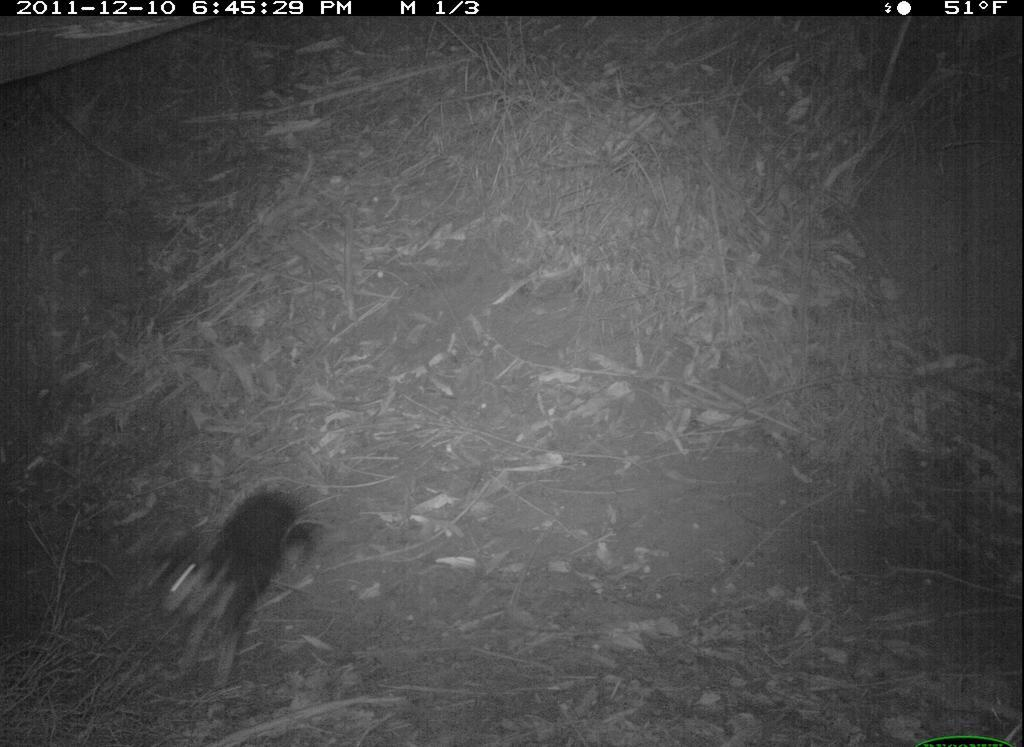dog: (139, 482, 332, 697)
